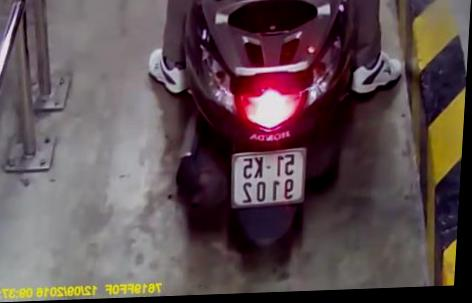License_Plate: (217, 142, 315, 211)
